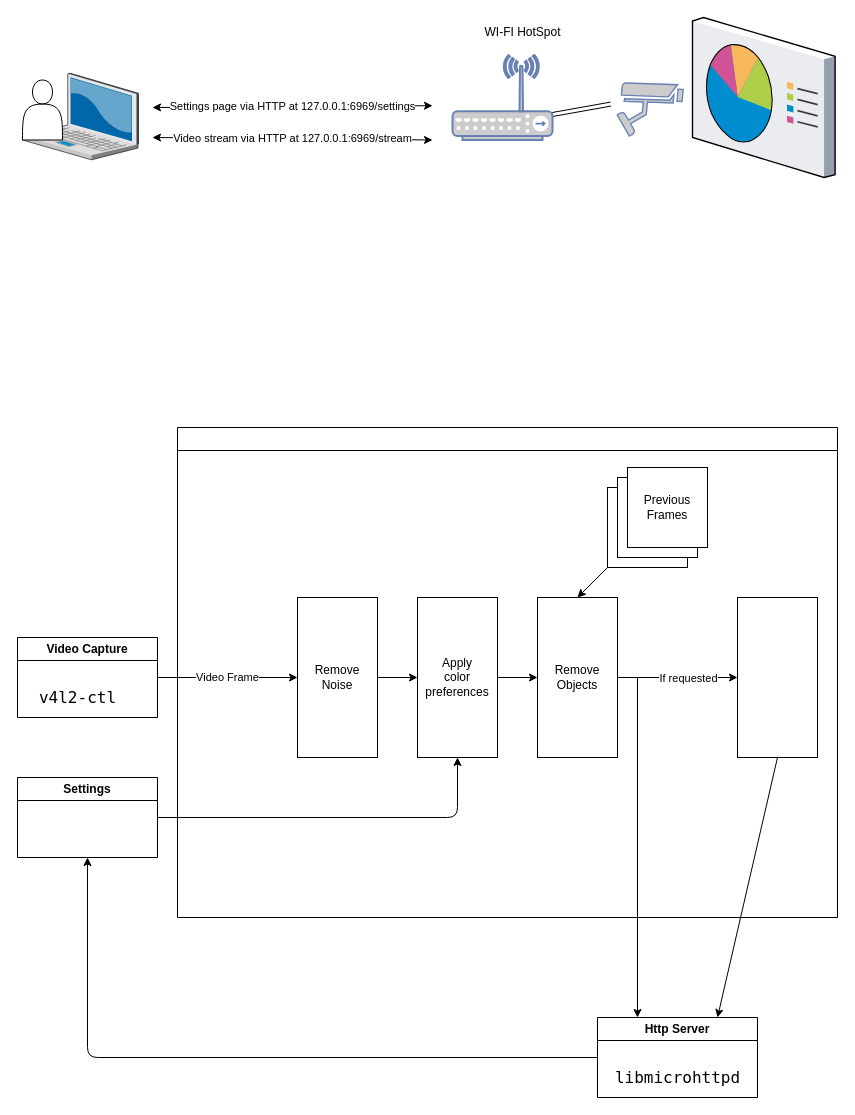
This 855x1115 diagram has some shape labels left out. The box of each missing label's shape, as (x1, y1, x2, y2) in pixels:
Raspberry Pie: (451, 54, 553, 140)
To SVG: (736, 596, 818, 758)
Video Processing Module: (176, 426, 838, 918)
White board: (692, 17, 835, 177)
